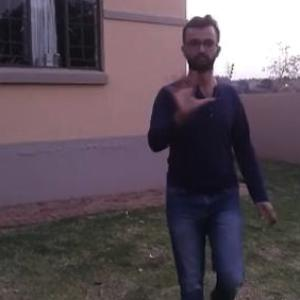follow_hand: (165, 66, 216, 114)
